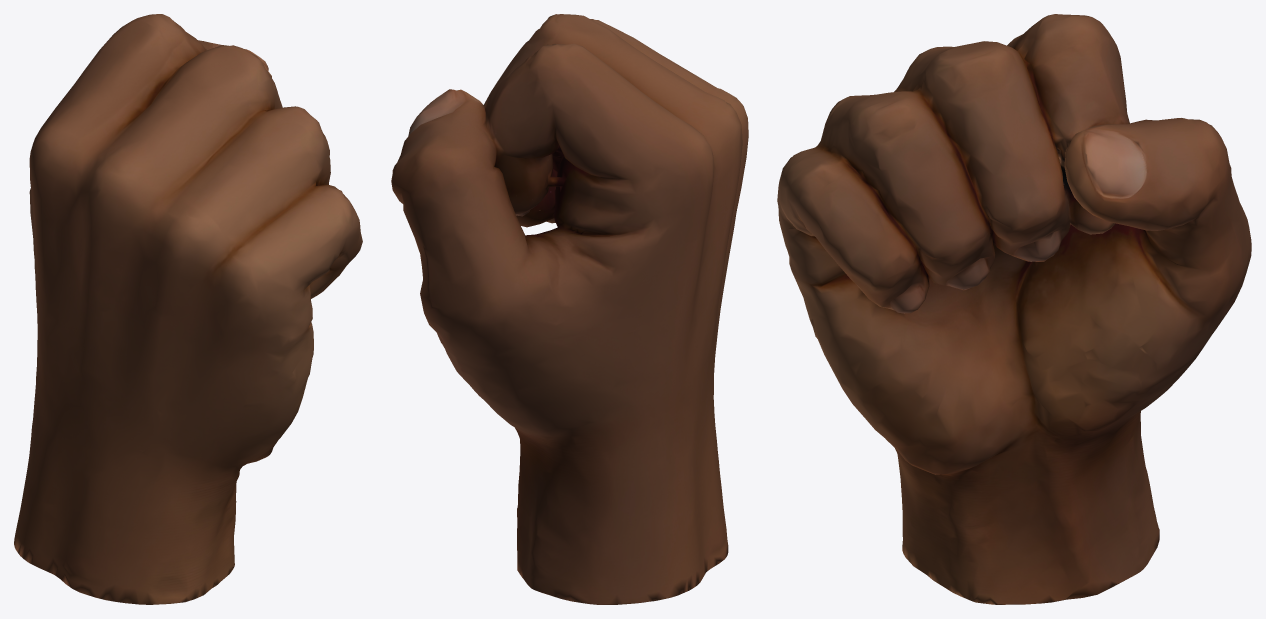
The model's file is sol_mod_hand_src.glb.
3 renders of one model, left to right at view 1: azimuth 30°, elevation 25°; view 2: azimuth 150°, elevation 25°; view 3: azimuth 270°, elevation 25°, orthographic. The views are drawn at different scales.
Visible parts, largest first — view 1: tripo_node_a94f08b2-ced1-440b-9819-29ad52f06a61; view 2: tripo_node_a94f08b2-ced1-440b-9819-29ad52f06a61; view 3: tripo_node_a94f08b2-ced1-440b-9819-29ad52f06a61.
Part boxes in pixels (bbox=[...]): tripo_node_a94f08b2-ced1-440b-9819-29ad52f06a61: bbox=[14, 14, 362, 604]; tripo_node_a94f08b2-ced1-440b-9819-29ad52f06a61: bbox=[391, 14, 748, 604]; tripo_node_a94f08b2-ced1-440b-9819-29ad52f06a61: bbox=[777, 14, 1251, 604].
Bounding box in the file's own units: 0.5314 × 1 × 0.7567.
1 material, 1 textured.
